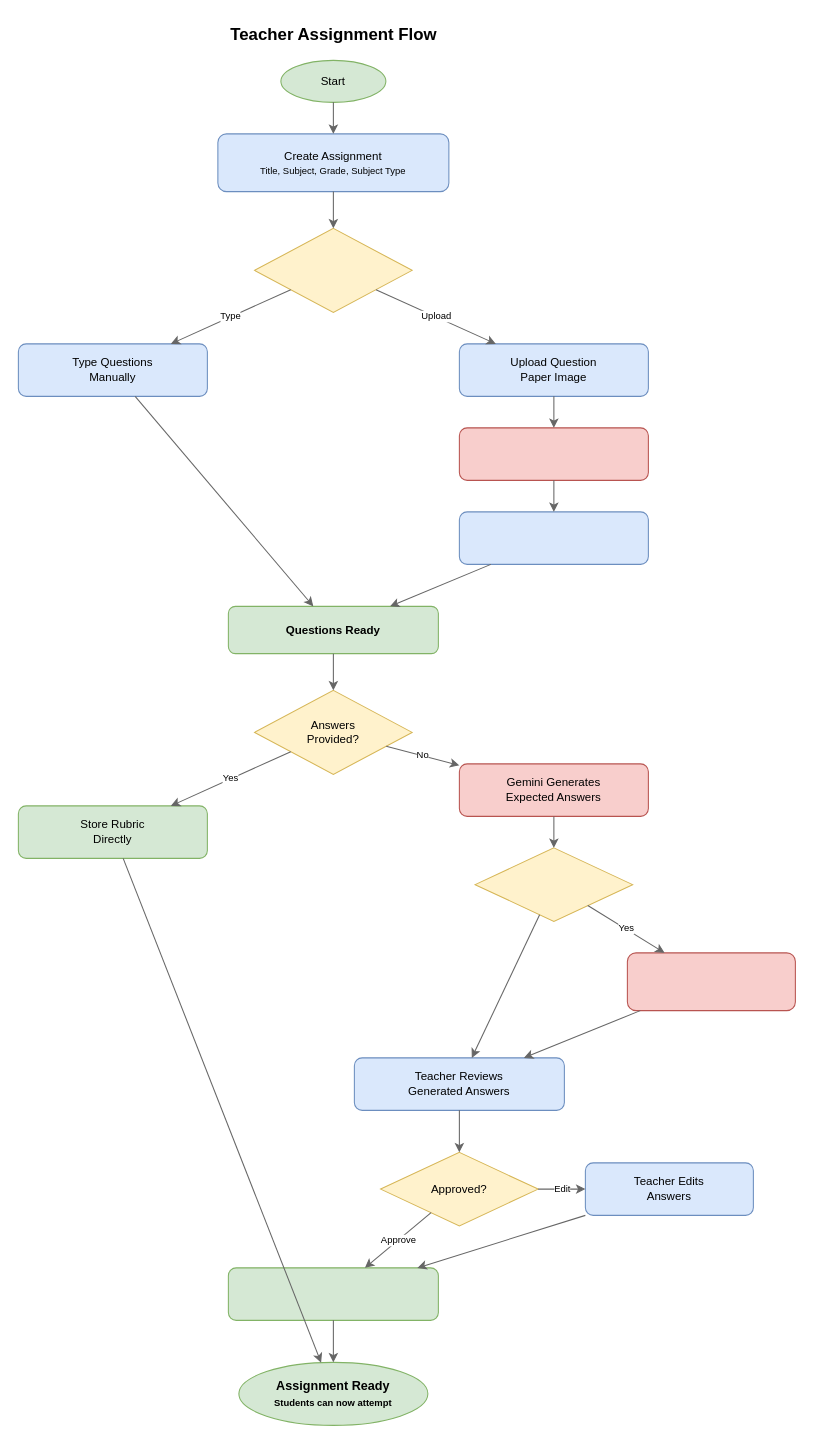
Some shapes in this 814 by 1444 pixel diagram are drawn without their labels. Here are the shapes that lost their labels. From the top down, the centre of each, then its label:
At pixel 333 269: "Input Method?".
At pixel 553 453: "Gemini Extracts Questions from Image".
At pixel 553 537: "Teacher Confirms / Edits Questions".
At pixel 553 884: "Has Diagram Questions?".
At pixel 710 981: "Generate Descriptive Rubric + Flag for Teacher Review".
At pixel 332 1293: "Store Approved Rubric".
